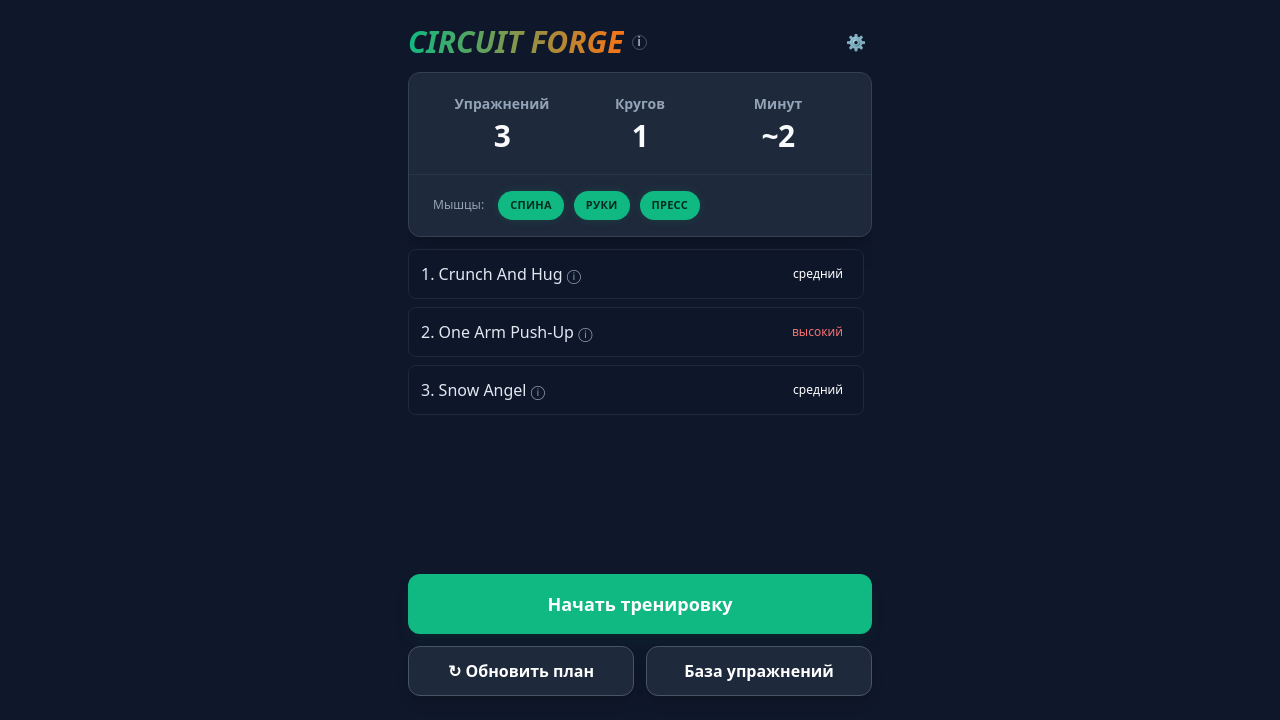
Scenario: workoutFlow (integration) › полный цикл: экран настройки → «Начать» → переход на экран тренировки (PREP, Отмена)
Click the button "Начать тренировку": click(640, 604) left=408, top=574, right=872, bottom=634
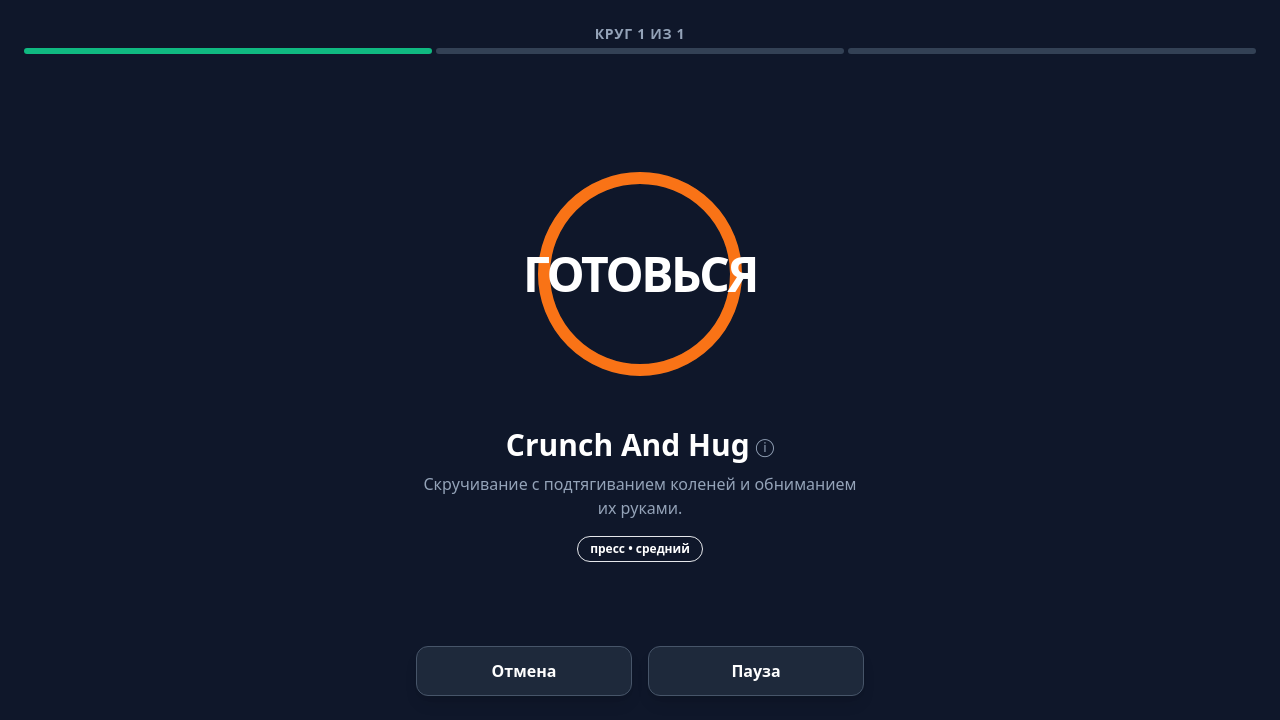
Expected: the text "ГОТОВЬСЯ" is shown, left=523, top=250, right=757, bottom=298
Expected: the button "Отмена" is shown, left=416, top=646, right=632, bottom=696
